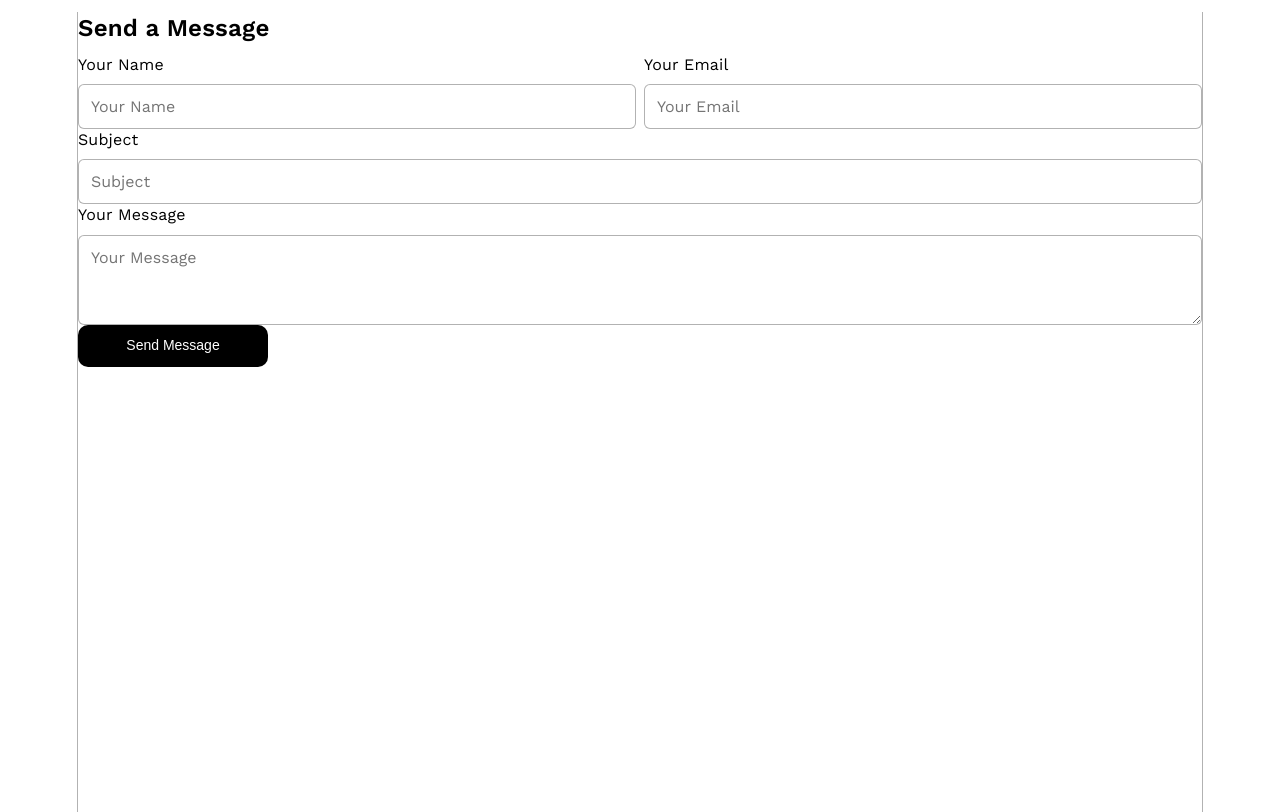
Scenario: ContactForm › submits the form and shows a success message
Type "Ada Lovelace" into the field labelled "Your Name" at (357, 106), box [78,84,636,129]
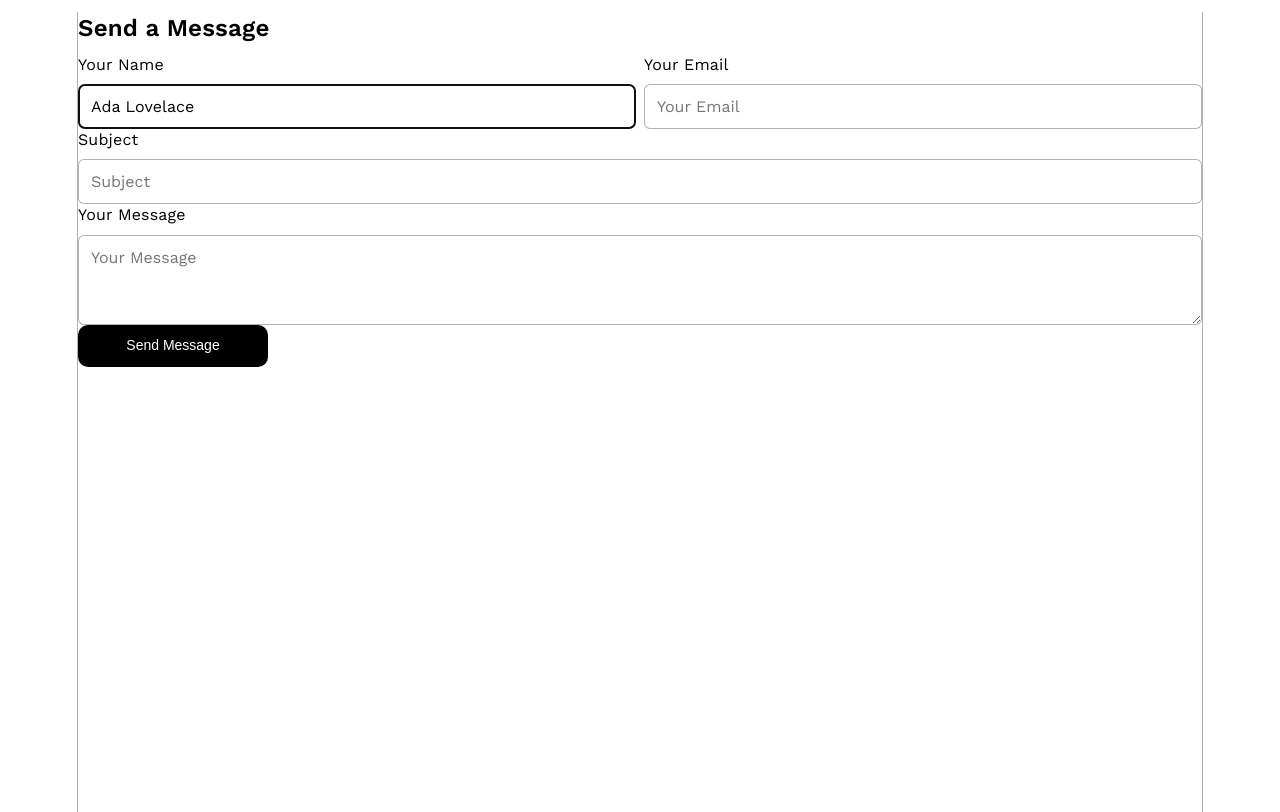
Type "ada@example.com" into the field labelled "Your Email" at (923, 106), box [644,84,1202,129]
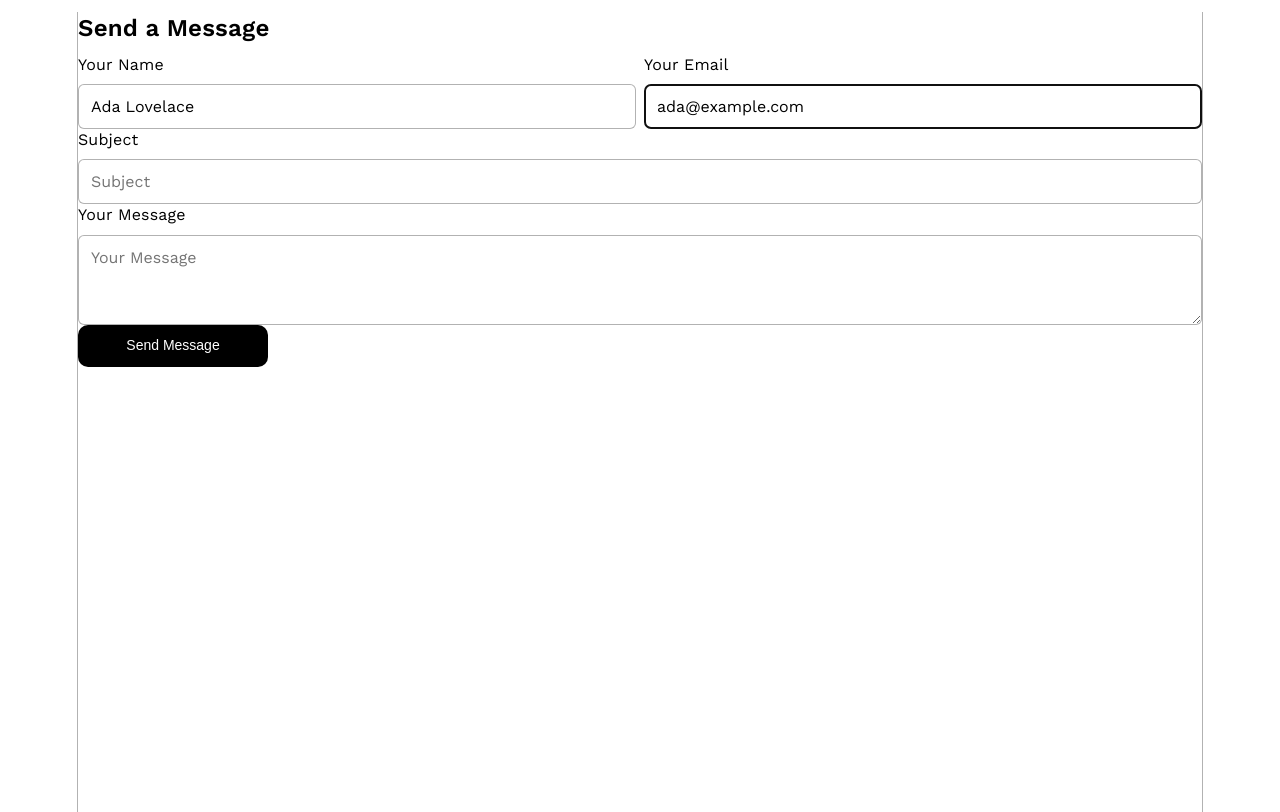
Type "Hello there" into the text box labelled "Your Message" at (640, 280), box [78,235,1202,325]
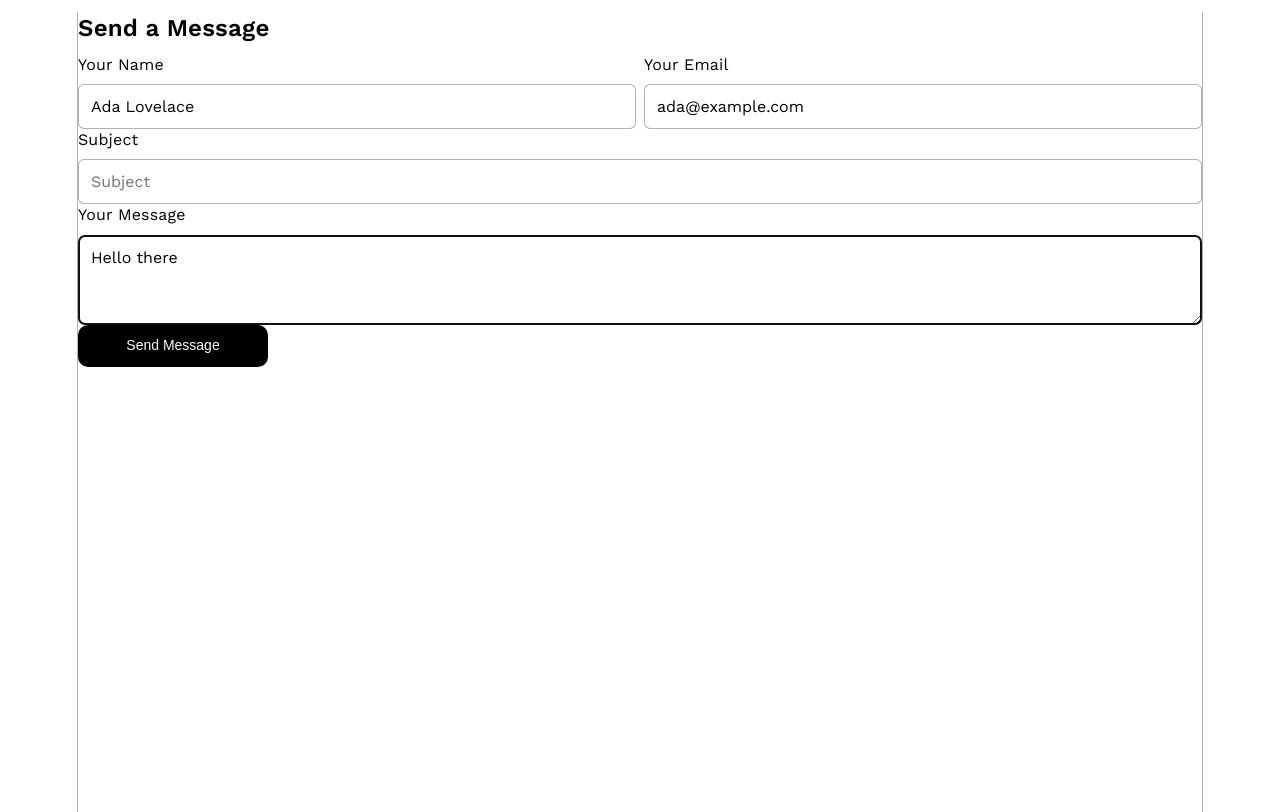
Click the button "Send Message" at (173, 346), box [78,325,268,367]
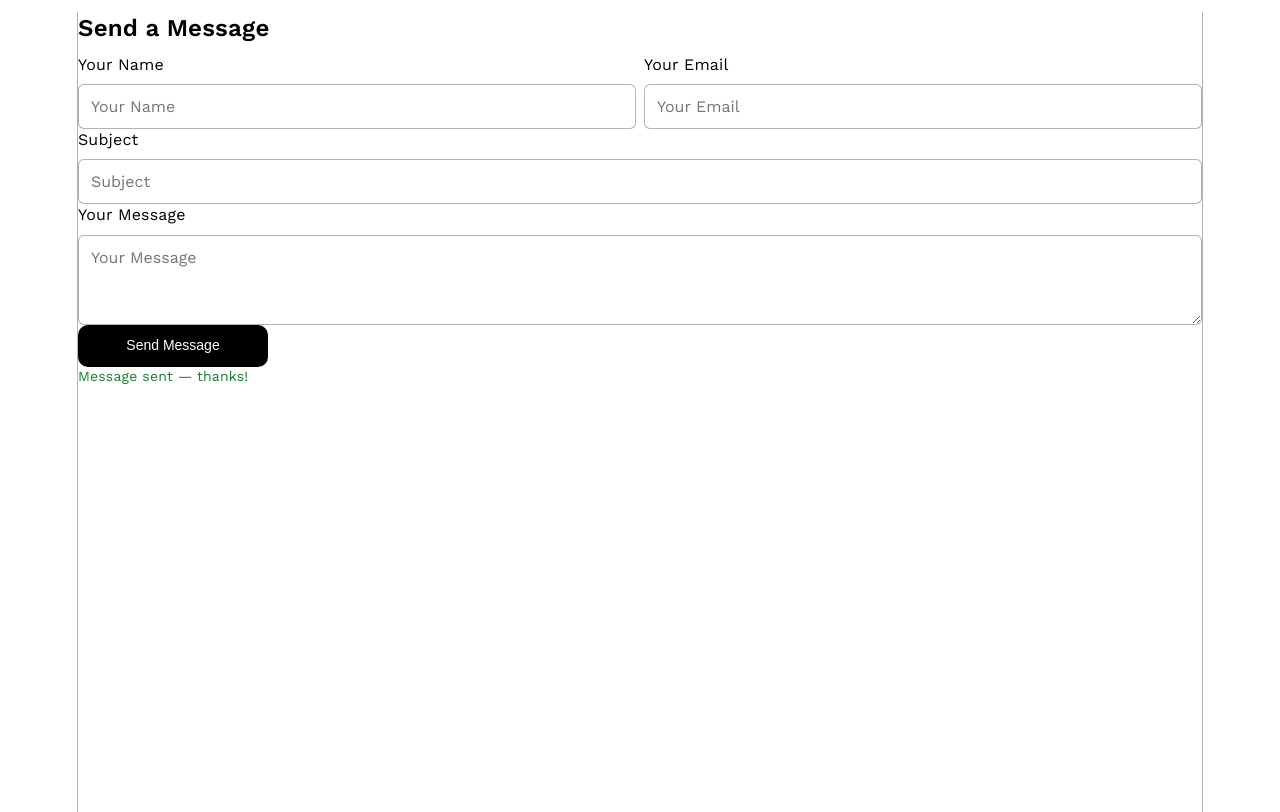
Result: the text "Message sent — thanks!" is shown at [78,368,248,384]
